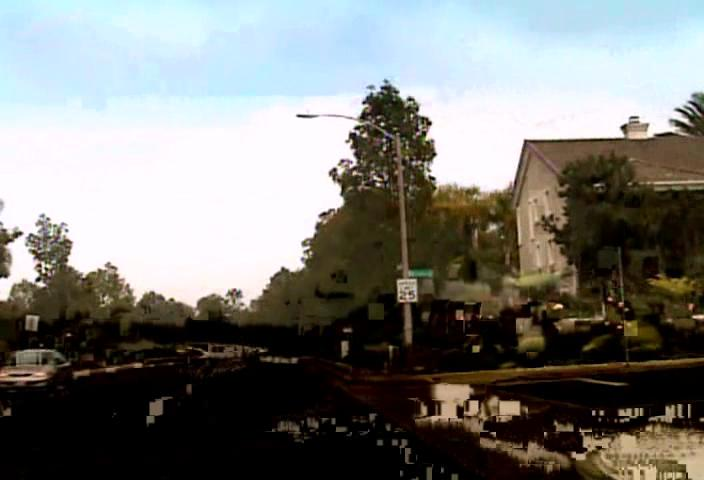speedLimit25: (395, 278, 418, 302)
